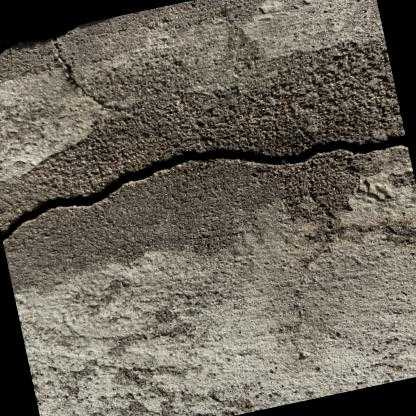crack: (0, 133, 407, 241), (0, 21, 123, 111)
